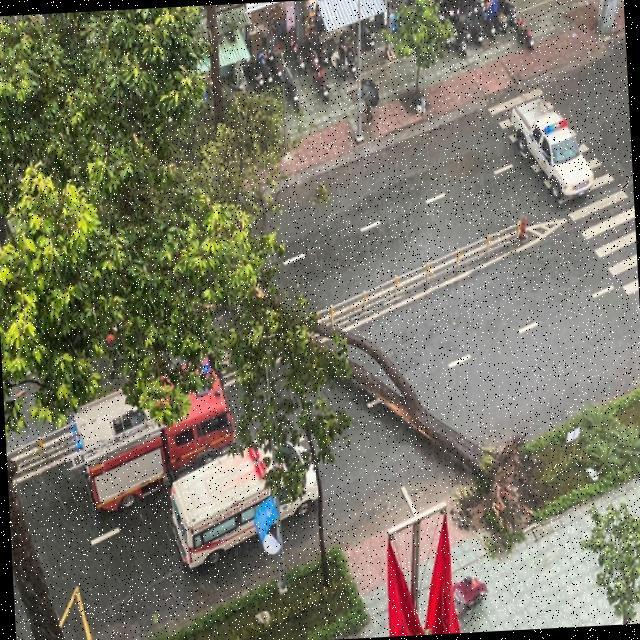fallen_object: (215, 243, 576, 560)
